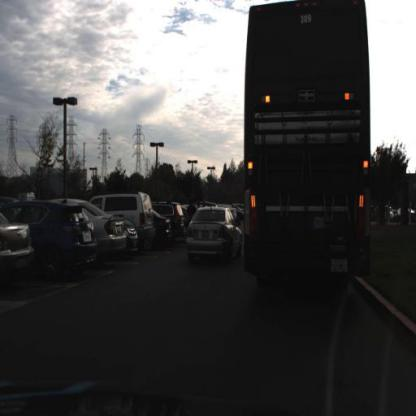car: (241, 1, 374, 294), (31, 199, 99, 273), (184, 204, 246, 268), (37, 203, 89, 253), (1, 212, 34, 286), (99, 207, 130, 252), (135, 191, 159, 239), (149, 207, 172, 247), (154, 209, 175, 247), (171, 202, 185, 244), (128, 218, 141, 254)
truck: (243, 1, 376, 310)
